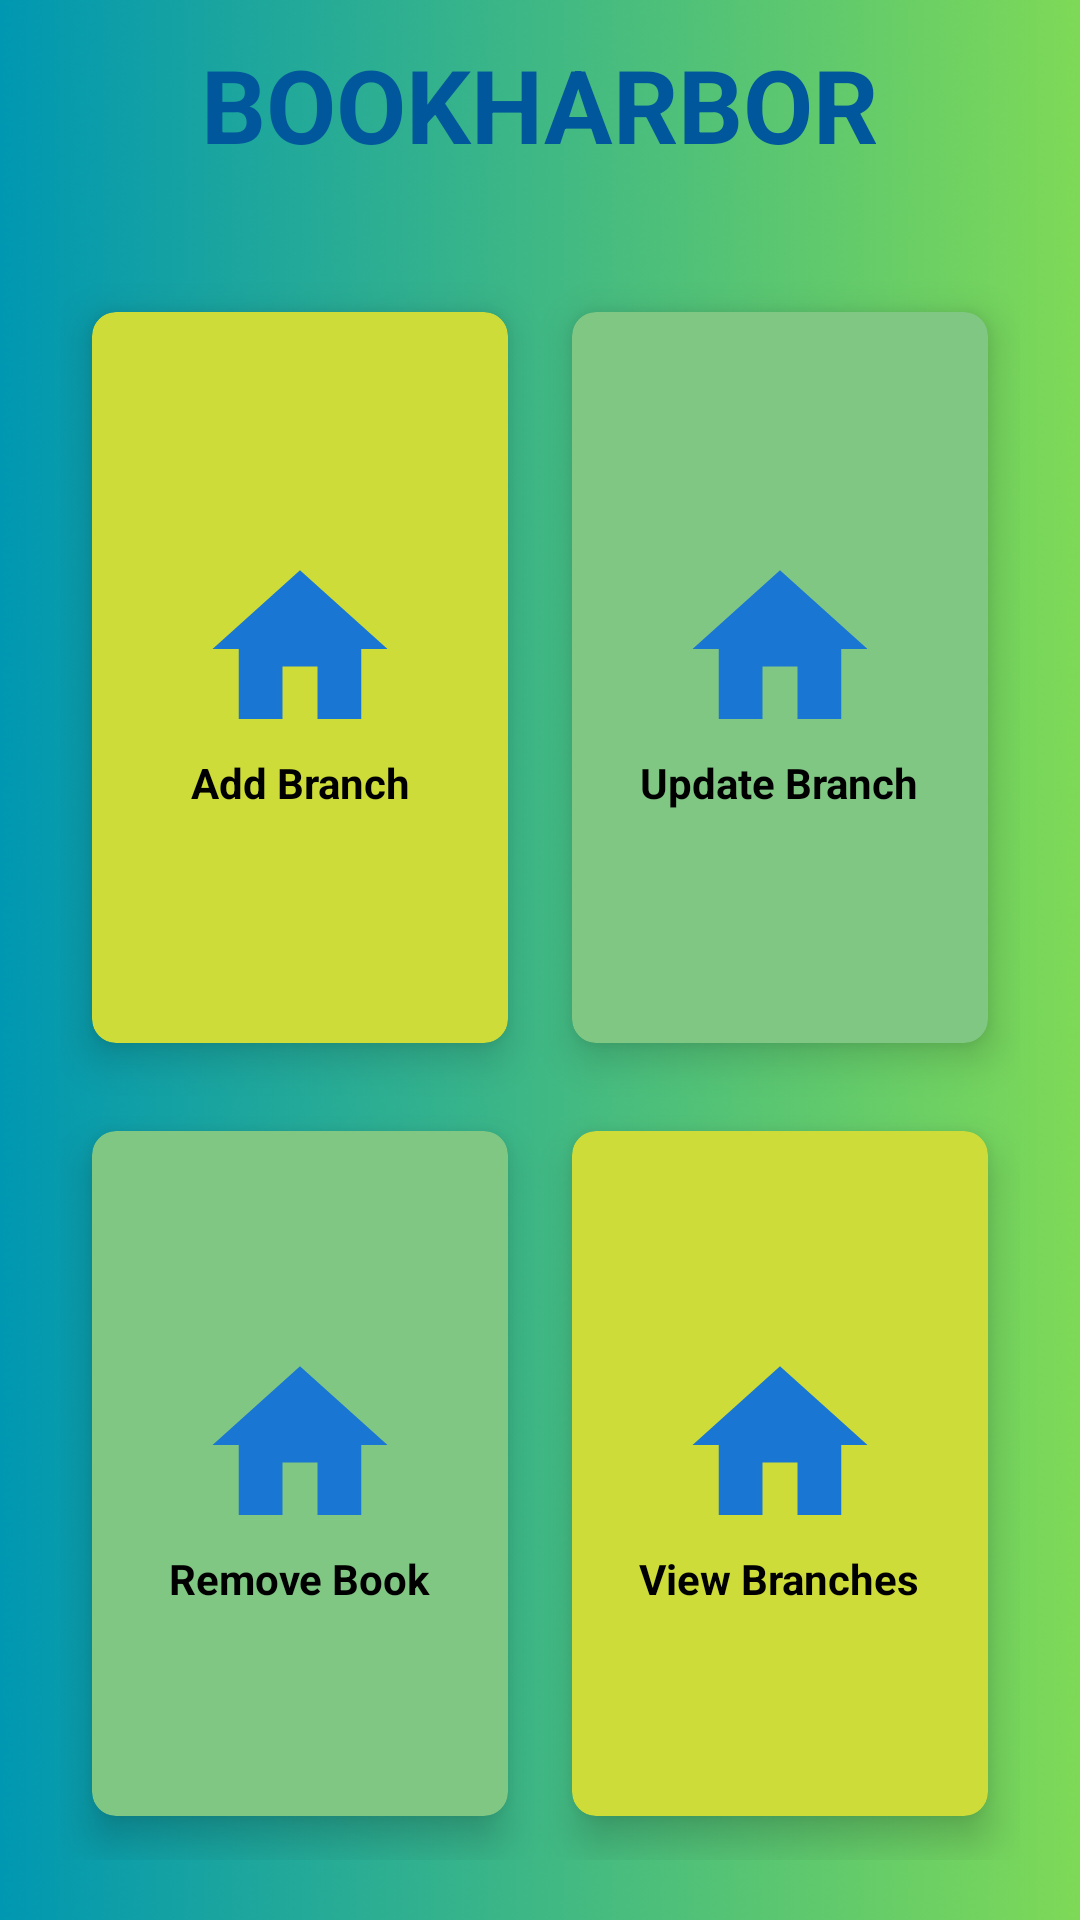

Where icons sit on this 1080px x 1920px app screen, as (x1, y1, x2, y2):
home: (213, 570, 387, 719), (693, 570, 867, 719), (213, 1366, 387, 1515), (693, 1366, 867, 1515)
